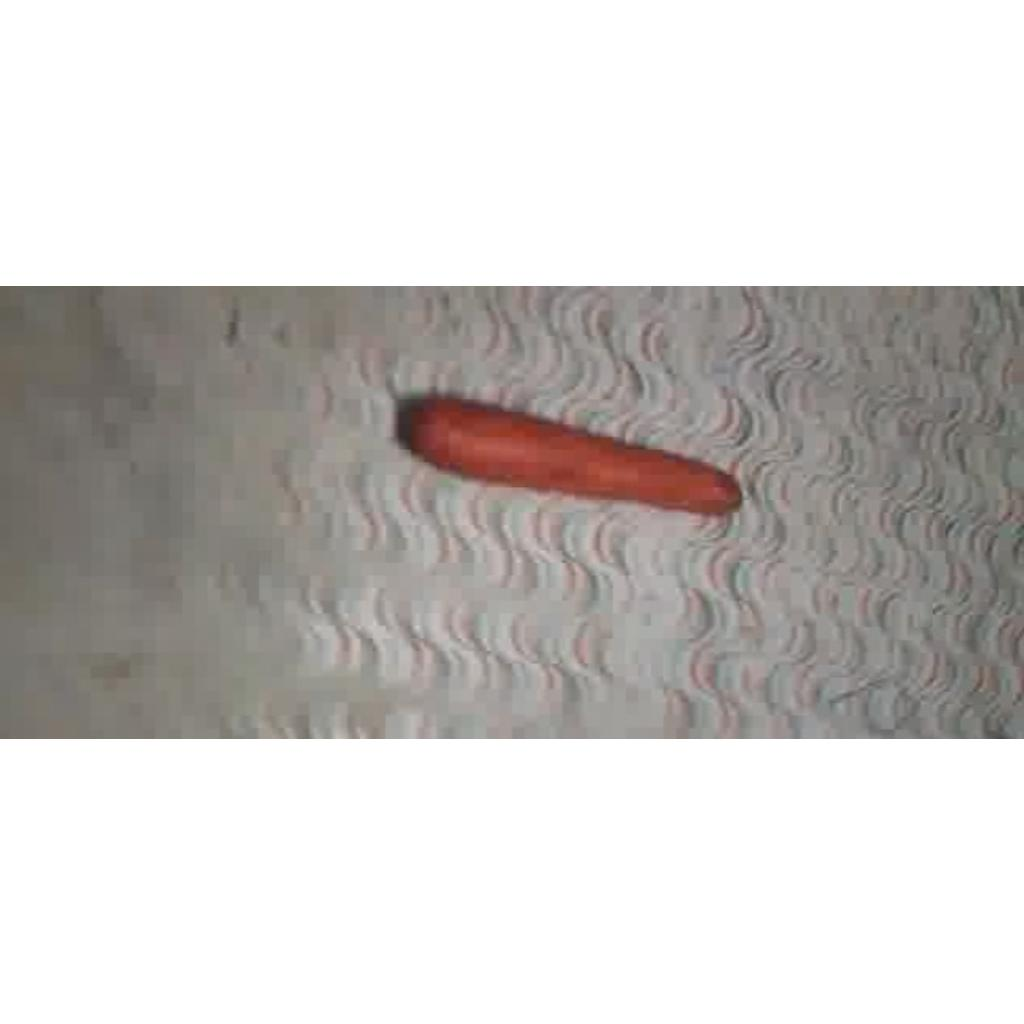carrot: (398, 397, 740, 510)
